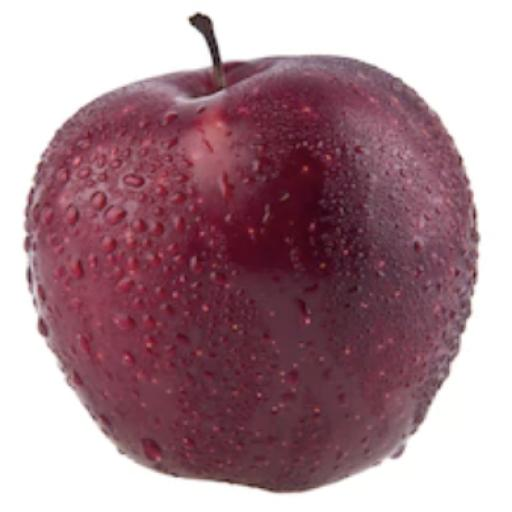apple: (27, 16, 477, 490)
